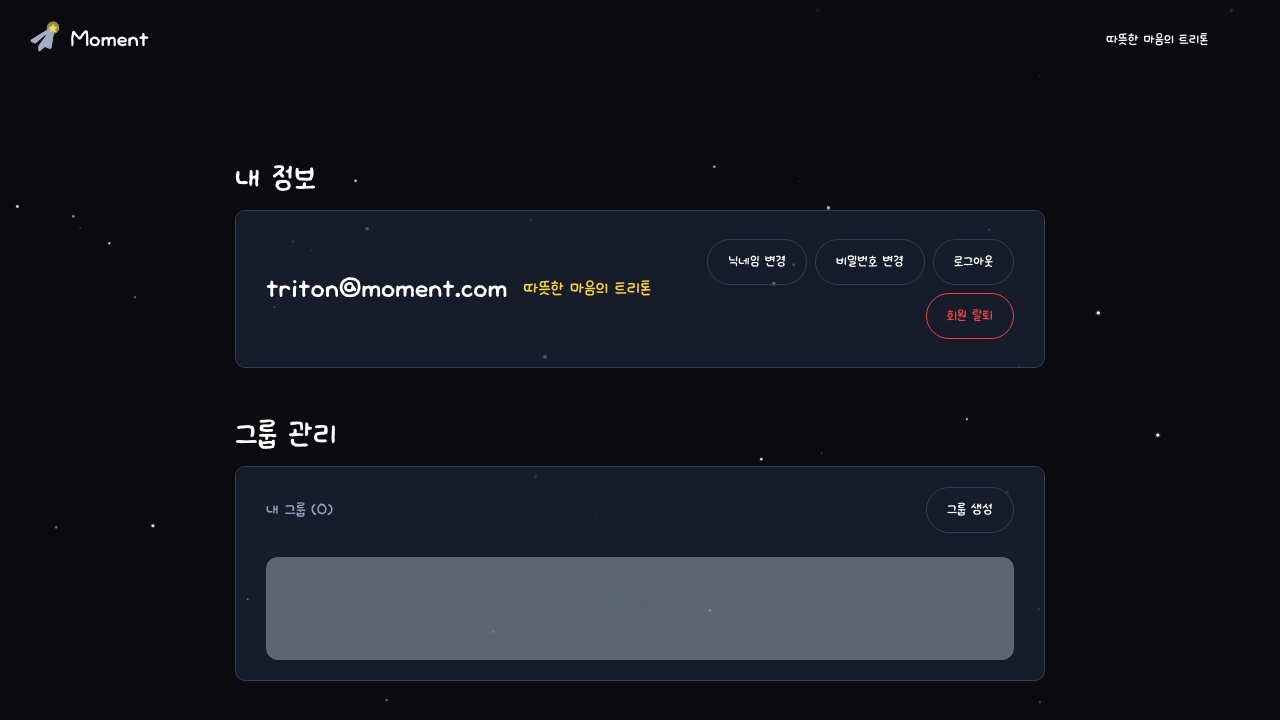
Test: 닉네임 변경 › 시나리오 1: 닉네임 변경 성공 › 닉네임 변경 버튼 클릭 시 변경 모달이 열린다
This screenshot has width=1280, height=720.
Expected: the 1st text "따뜻한 마음의 트리톤" is shown, [1106, 28, 1208, 52]
Click the button "닉네임 변경". click: x=757, y=262
box: [707, 239, 807, 285]
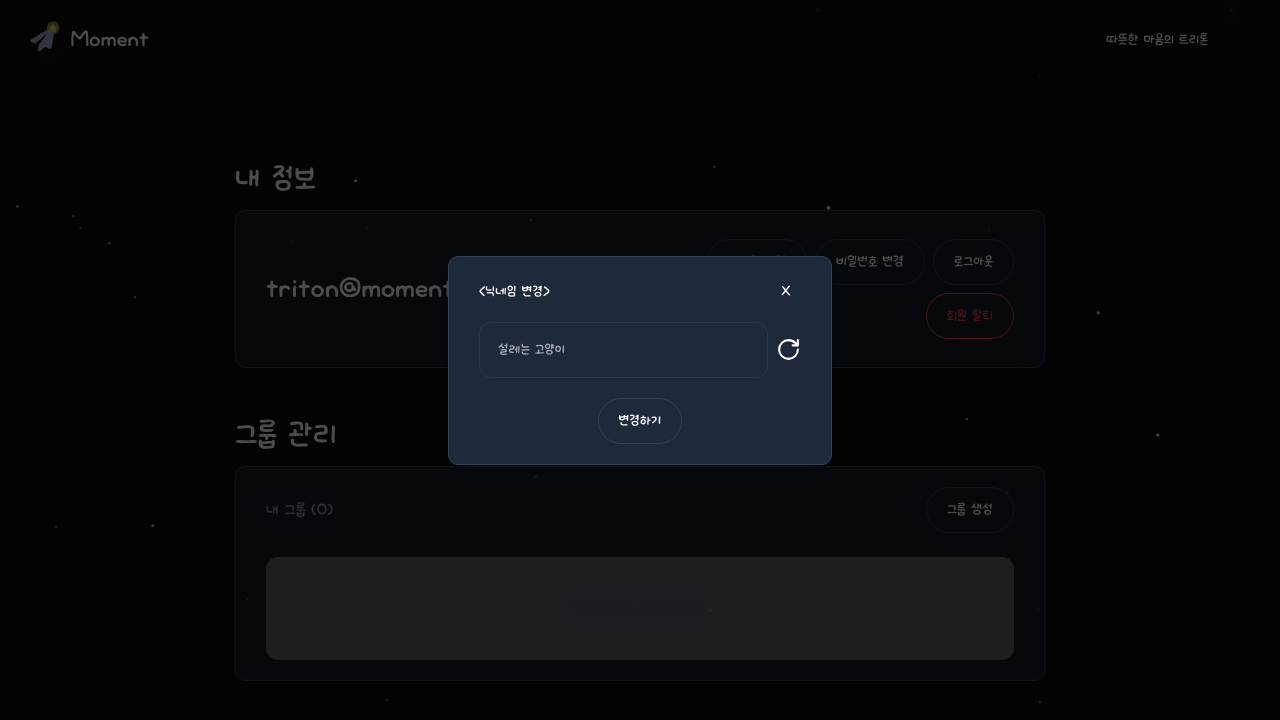
Expected: the field with id "nickname" is shown, [479, 322, 768, 378]
